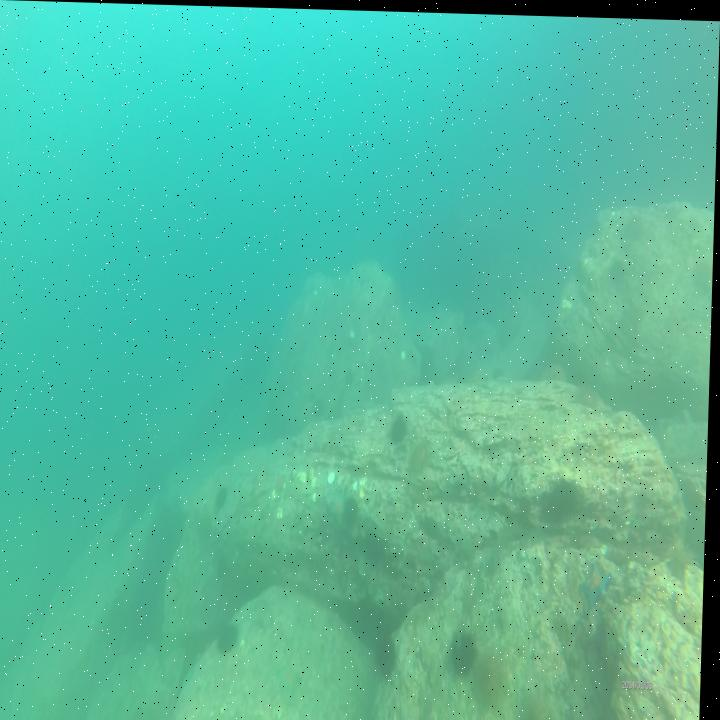echinus: (552, 472, 583, 521), (455, 623, 482, 669), (377, 630, 400, 677), (411, 434, 436, 468), (220, 618, 242, 653), (392, 411, 410, 445), (344, 493, 363, 521), (216, 483, 231, 507)
starfish: (580, 556, 615, 606)
